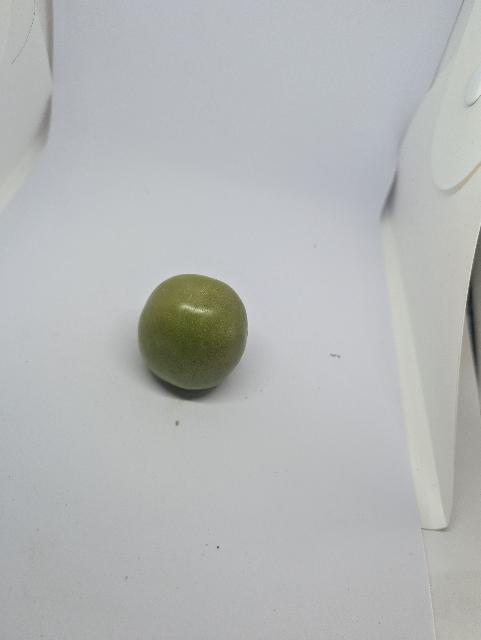green: (131, 271, 256, 402)
